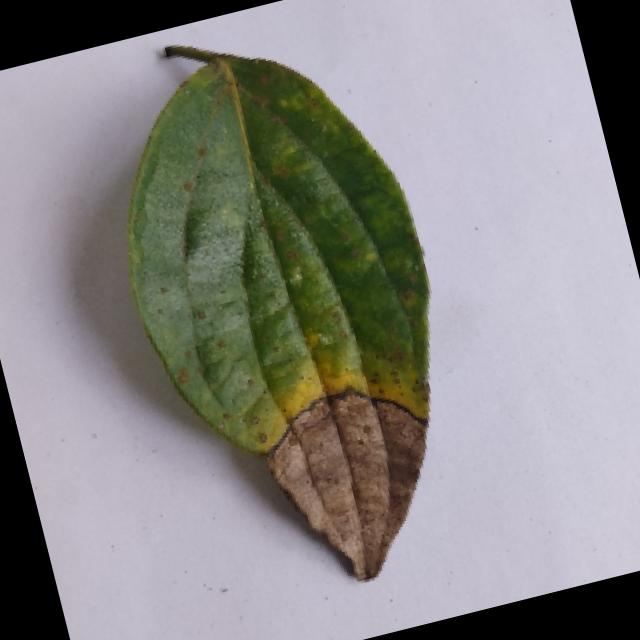footrot: (67, 0, 497, 619)
